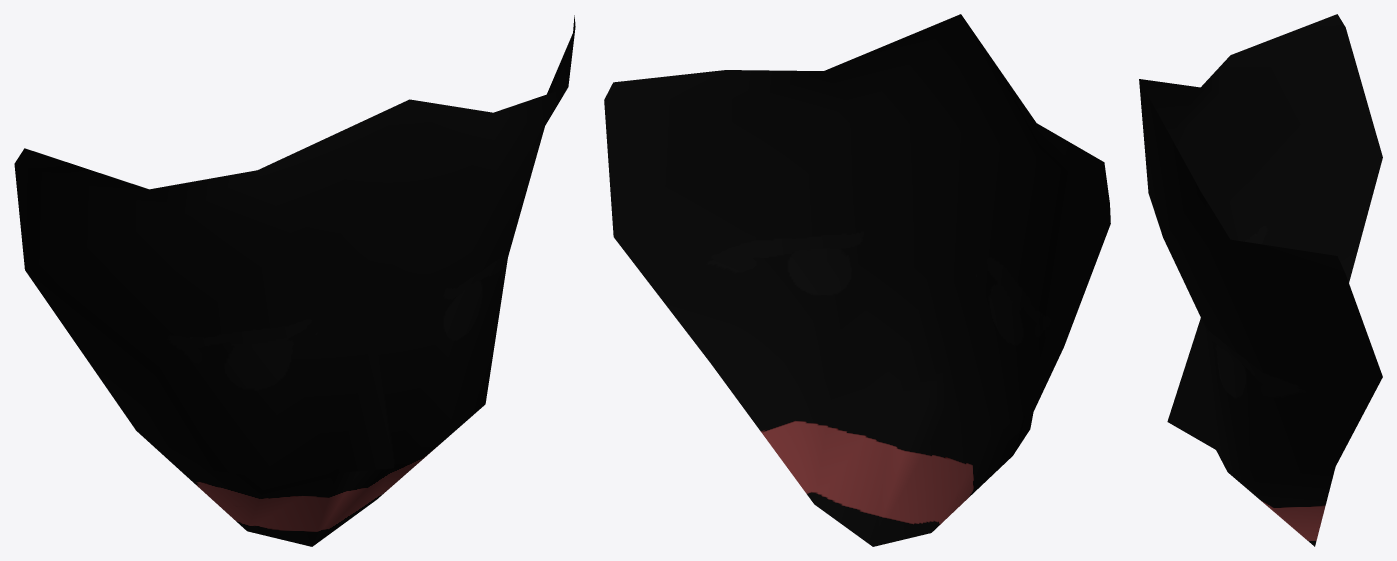
File: FaceMask.fbx
3 renders of one model, left to right at view 1: azimuth 30°, elevation 25°; view 2: azimuth 150°, elevation 25°; view 3: azimuth 270°, elevation 25°, orthographic. The views are drawn at different scales.
Parts seen in each view (by area): view 1: Face; view 2: Face; view 3: Face.
Boxes of the visible parts, x1,y1,x2,y2 form: Face: (14,15,575,546); Face: (604,14,1110,546); Face: (1139,14,1382,546).
Bounding box in the file's own units: 27.19 × 24.03 × 11.35.
